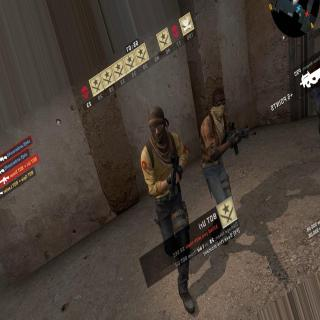T-Body: (140, 102, 196, 312), (200, 88, 242, 200)
T-Head: (150, 104, 168, 146), (211, 87, 226, 120)
